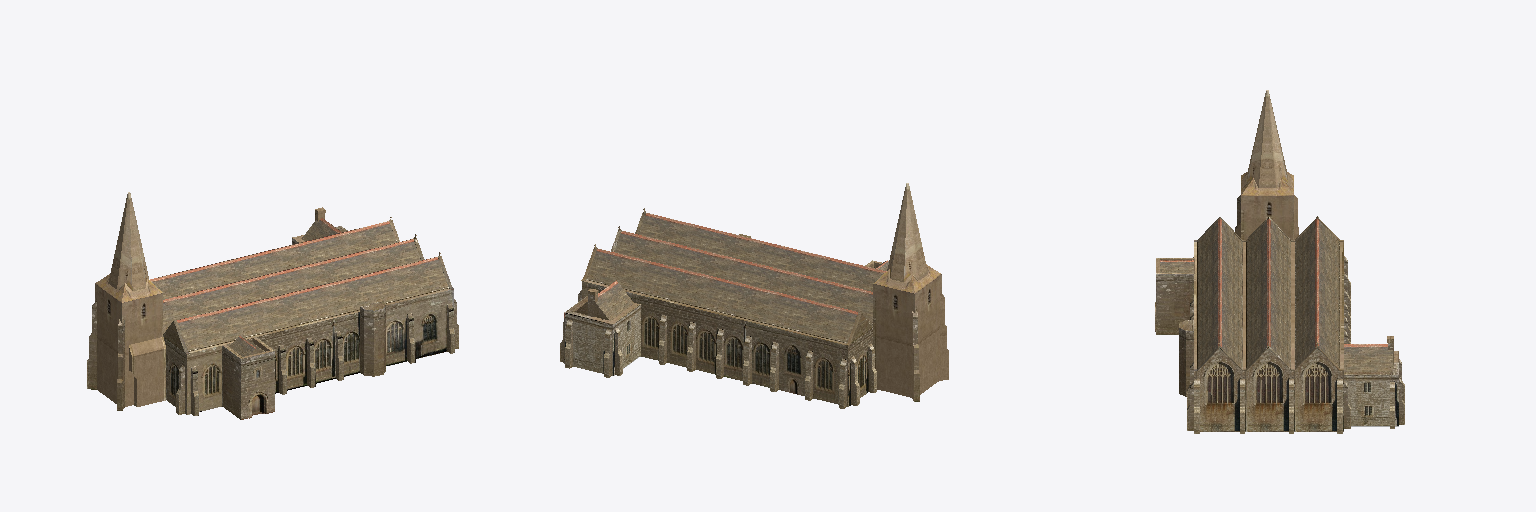
3 renders of one model, left to right at view 1: azimuth 30°, elevation 25°; view 2: azimuth 150°, elevation 25°; view 3: azimuth 270°, elevation 25°, orthographic.
Visible parts, largest first — view 1: side2; view 2: side2; view 3: side2.
Part boxes in pixels (bbox=[...]): side2: bbox=[87, 192, 458, 419]; side2: bbox=[560, 183, 948, 408]; side2: bbox=[1155, 90, 1404, 433].
Bounding box in the file's own units: 1731 × 1035 × 1165.
1 materials, 1 textured.